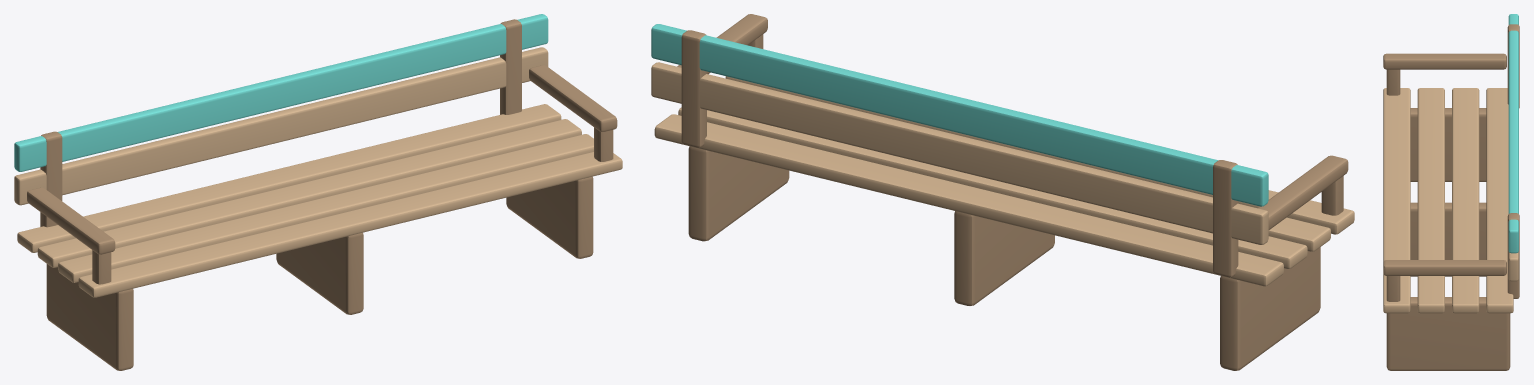
The model's file is Bench.fbx.
3 views of the same model, side by side, from view 1: azimuth 30°, elevation 25°; view 2: azimuth 150°, elevation 25°; view 3: azimuth 270°, elevation 25° (orthographic). The views are drawn at different scales.
Visible parts, largest first — view 1: Bench; view 2: Bench; view 3: Bench.
Part boxes in pixels (x1,y1,x2,y2): Bench: [14, 14, 622, 370]; Bench: [651, 14, 1354, 370]; Bench: [1383, 14, 1519, 370].
Size of the model in its own units: 3 by 0.985 by 0.795.
